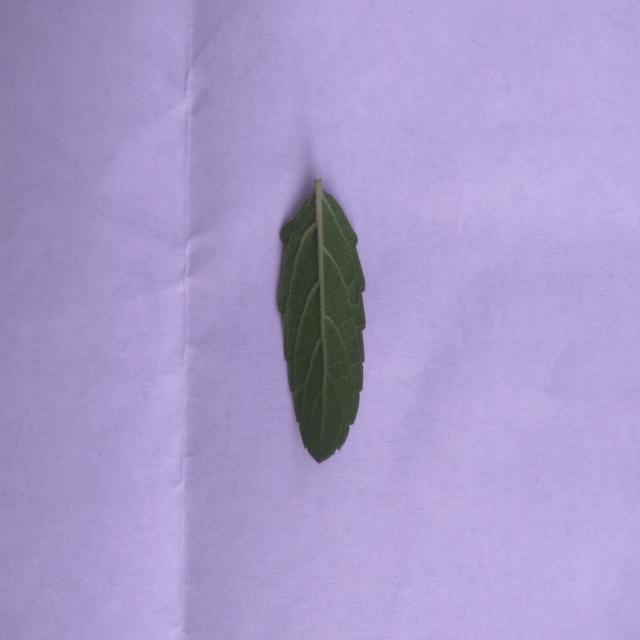tulsi: (278, 180, 365, 462)
